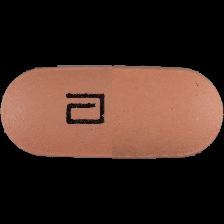68258-6032: (0, 0, 224, 224)
